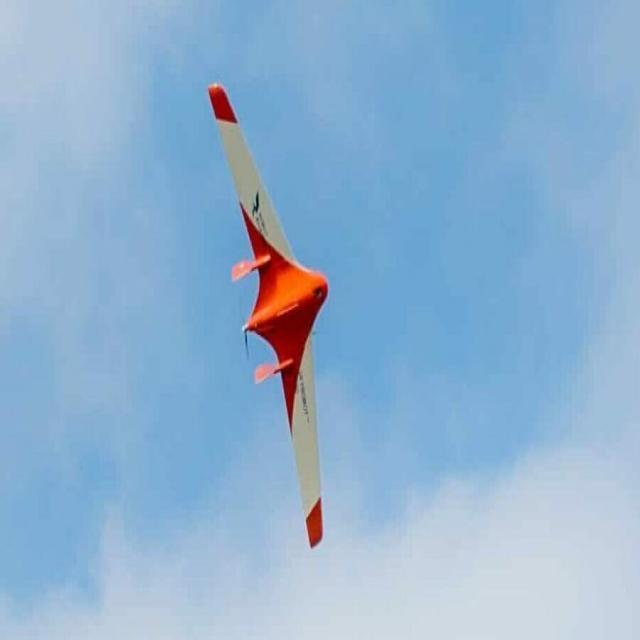iha: (202, 68, 336, 564)
